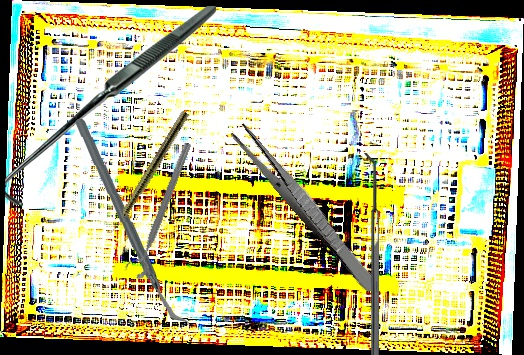Chopper: (73, 115, 190, 329)
Dressing Forceps: (228, 120, 384, 295)
Fixation Ring: (121, 137, 196, 282)
Handpiece: (106, 109, 191, 238)
Hook Surgical: (5, 6, 216, 205)
Spatula Surgical: (363, 153, 379, 355)
